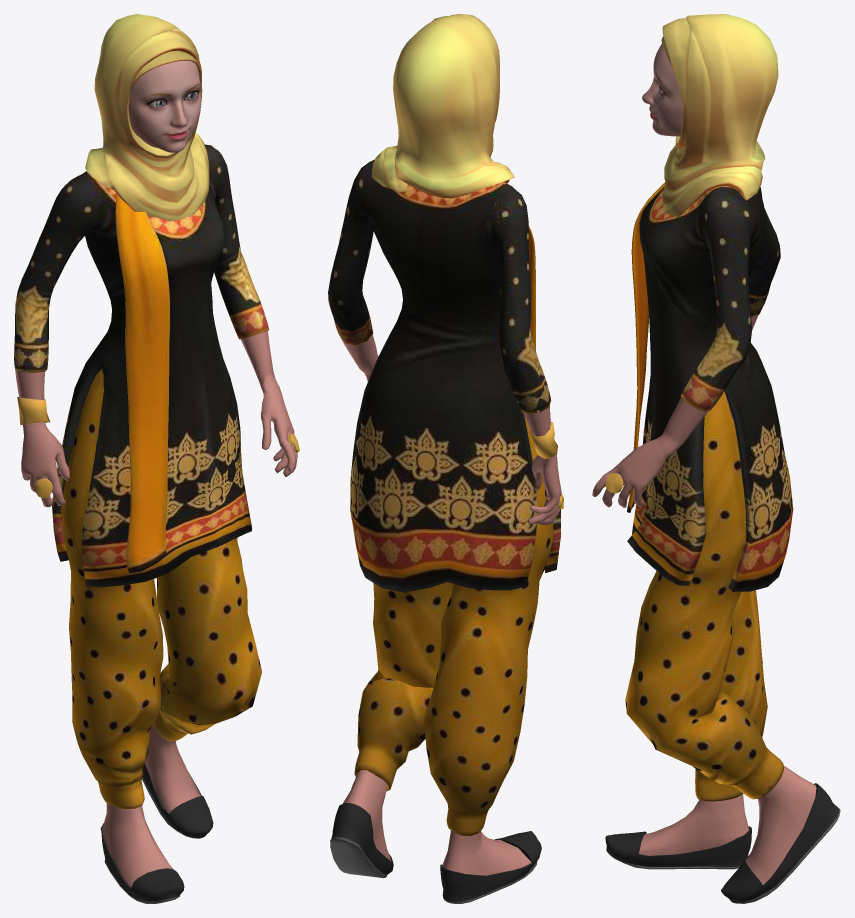
File: Woman1 Textured.fbx
3 renders of one model, left to right at view 1: azimuth 30°, elevation 25°; view 2: azimuth 150°, elevation 25°; view 3: azimuth 270°, elevation 25°, orthographic. The views are drawn at different scales.
Visible parts, largest first — view 1: Wolf3D_Outfit_Top.001, Wolf3D_Outfit_Bottom.001, Wolf3D_Headwear.001, Wolf3D_Body.001, Wolf3D_Head.001, Wolf3D_Outfit_Footwear.001; view 2: Wolf3D_Outfit_Top.001, Wolf3D_Outfit_Bottom.001, Wolf3D_Headwear.001, Wolf3D_Body.001, Wolf3D_Outfit_Footwear.001; view 3: Wolf3D_Outfit_Top.001, Wolf3D_Outfit_Bottom.001, Wolf3D_Headwear.001, Wolf3D_Body.001, Wolf3D_Outfit_Footwear.001, Wolf3D_Head.001.
Boxes of the visible parts, x1,y1,x2,y2 form: Wolf3D_Outfit_Top.001: (14, 144, 299, 587); Wolf3D_Outfit_Bottom.001: (60, 369, 261, 809); Wolf3D_Headwear.001: (85, 14, 209, 221); Wolf3D_Body.001: (15, 331, 297, 887); Wolf3D_Head.001: (129, 60, 201, 152); Wolf3D_Outfit_Footwear.001: (100, 763, 213, 903); Wolf3D_Outfit_Top.001: (328, 159, 563, 592); Wolf3D_Outfit_Bottom.001: (354, 416, 553, 836); Wolf3D_Headwear.001: (371, 14, 514, 198); Wolf3D_Body.001: (340, 334, 561, 875); Wolf3D_Outfit_Footwear.001: (330, 803, 541, 903); Wolf3D_Outfit_Top.001: (605, 182, 793, 591); Wolf3D_Outfit_Bottom.001: (625, 391, 783, 801); Wolf3D_Headwear.001: (661, 14, 778, 217); Wolf3D_Body.001: (592, 315, 816, 884); Wolf3D_Outfit_Footwear.001: (605, 783, 840, 903); Wolf3D_Head.001: (642, 44, 682, 136).
Size of the model in its own units: 50.27 by 177 by 46.25.
Materials: 8 (8 with a texture image).
